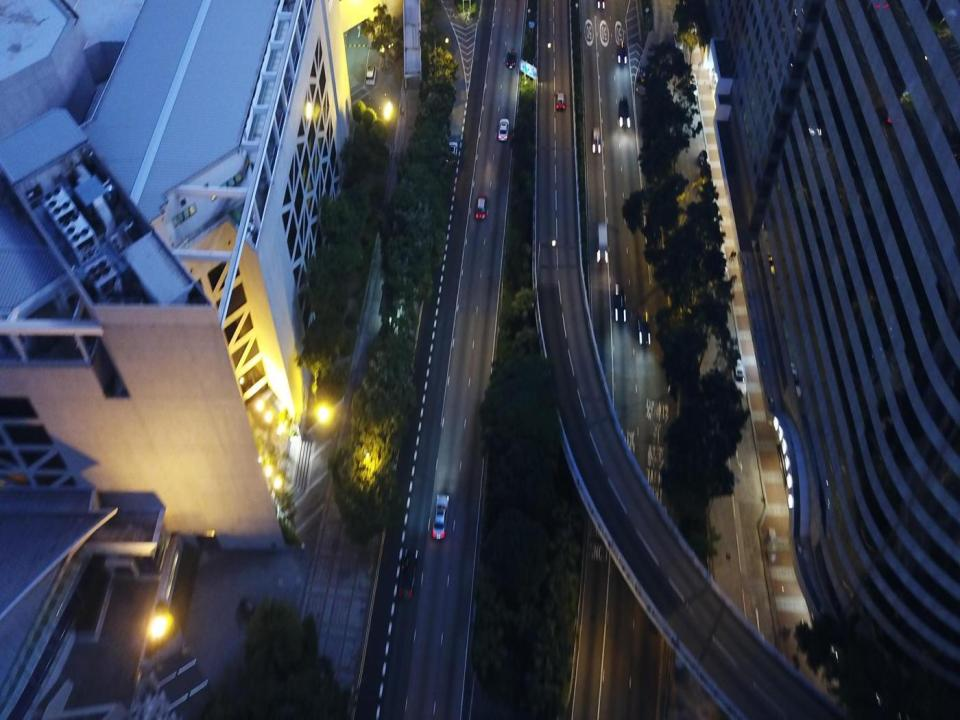bus: (596, 220, 609, 262)
car: (433, 494, 449, 538), (613, 280, 627, 322), (638, 310, 651, 346), (617, 96, 630, 127), (497, 118, 510, 142), (474, 193, 486, 218), (617, 39, 628, 64), (555, 90, 566, 114), (591, 128, 601, 154), (504, 50, 517, 69), (597, 0, 606, 9)
